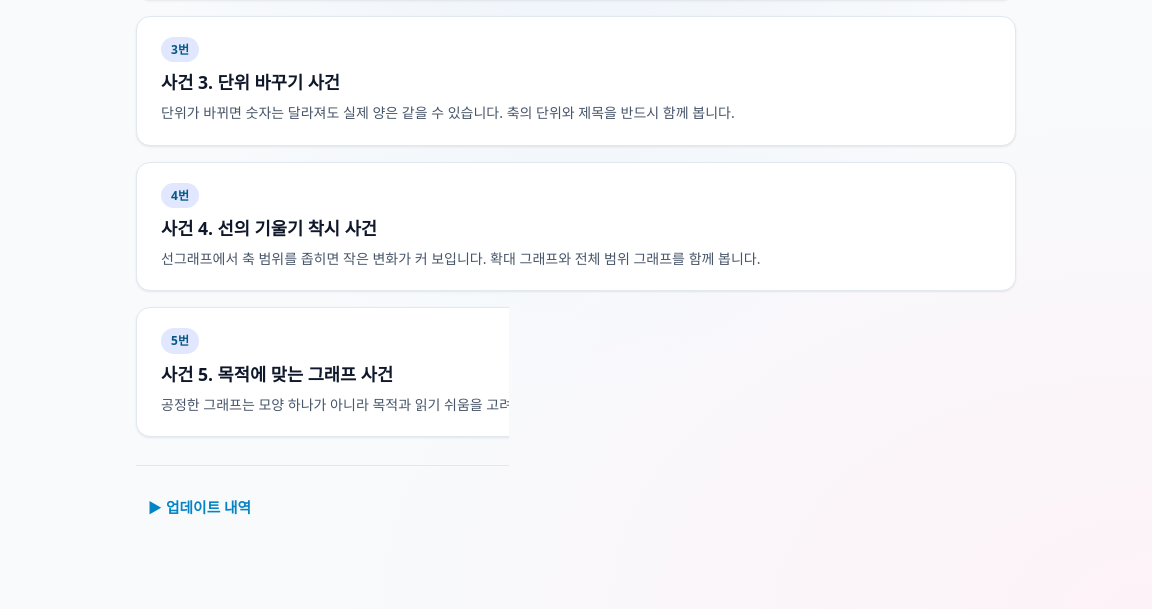
Test: 사양서 11.1절 시작 화면 › 업데이트 내역 버튼이 열리고 닫힌다 (사양서 11.3절)
(page scrolled)
Click the button "▶ 업데이트 내역" at (200, 508), box 136,486 -> 263,530
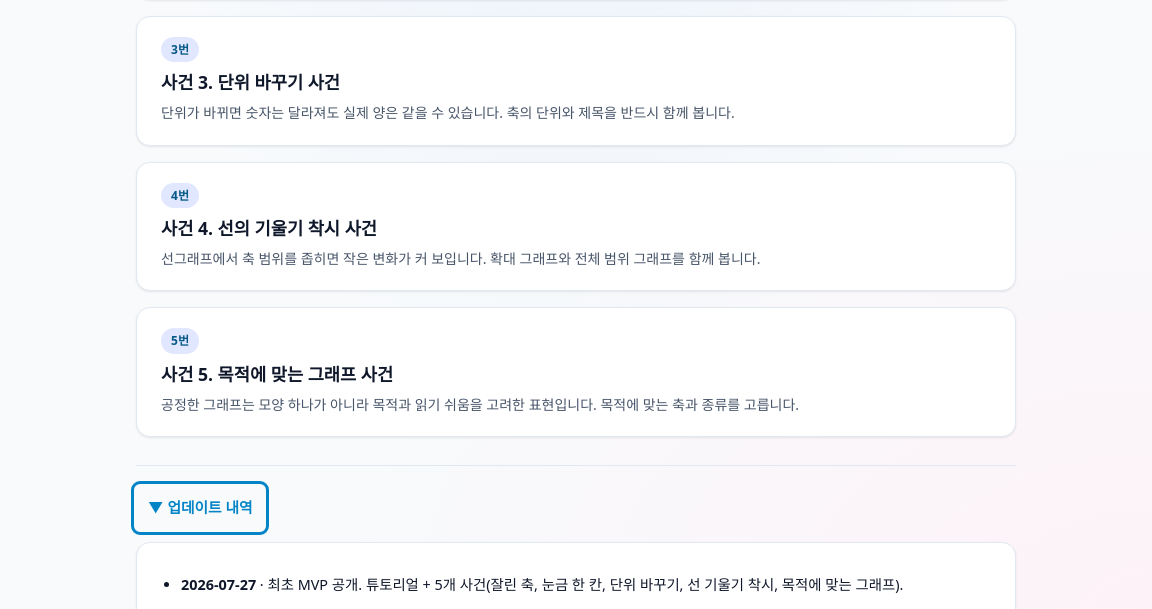
Result: the button "▼ 업데이트 내역" is expanded at 136,486 -> 264,530
Result: the list item "최초 MVP 공개" is shown at 256,575 -> 903,594
